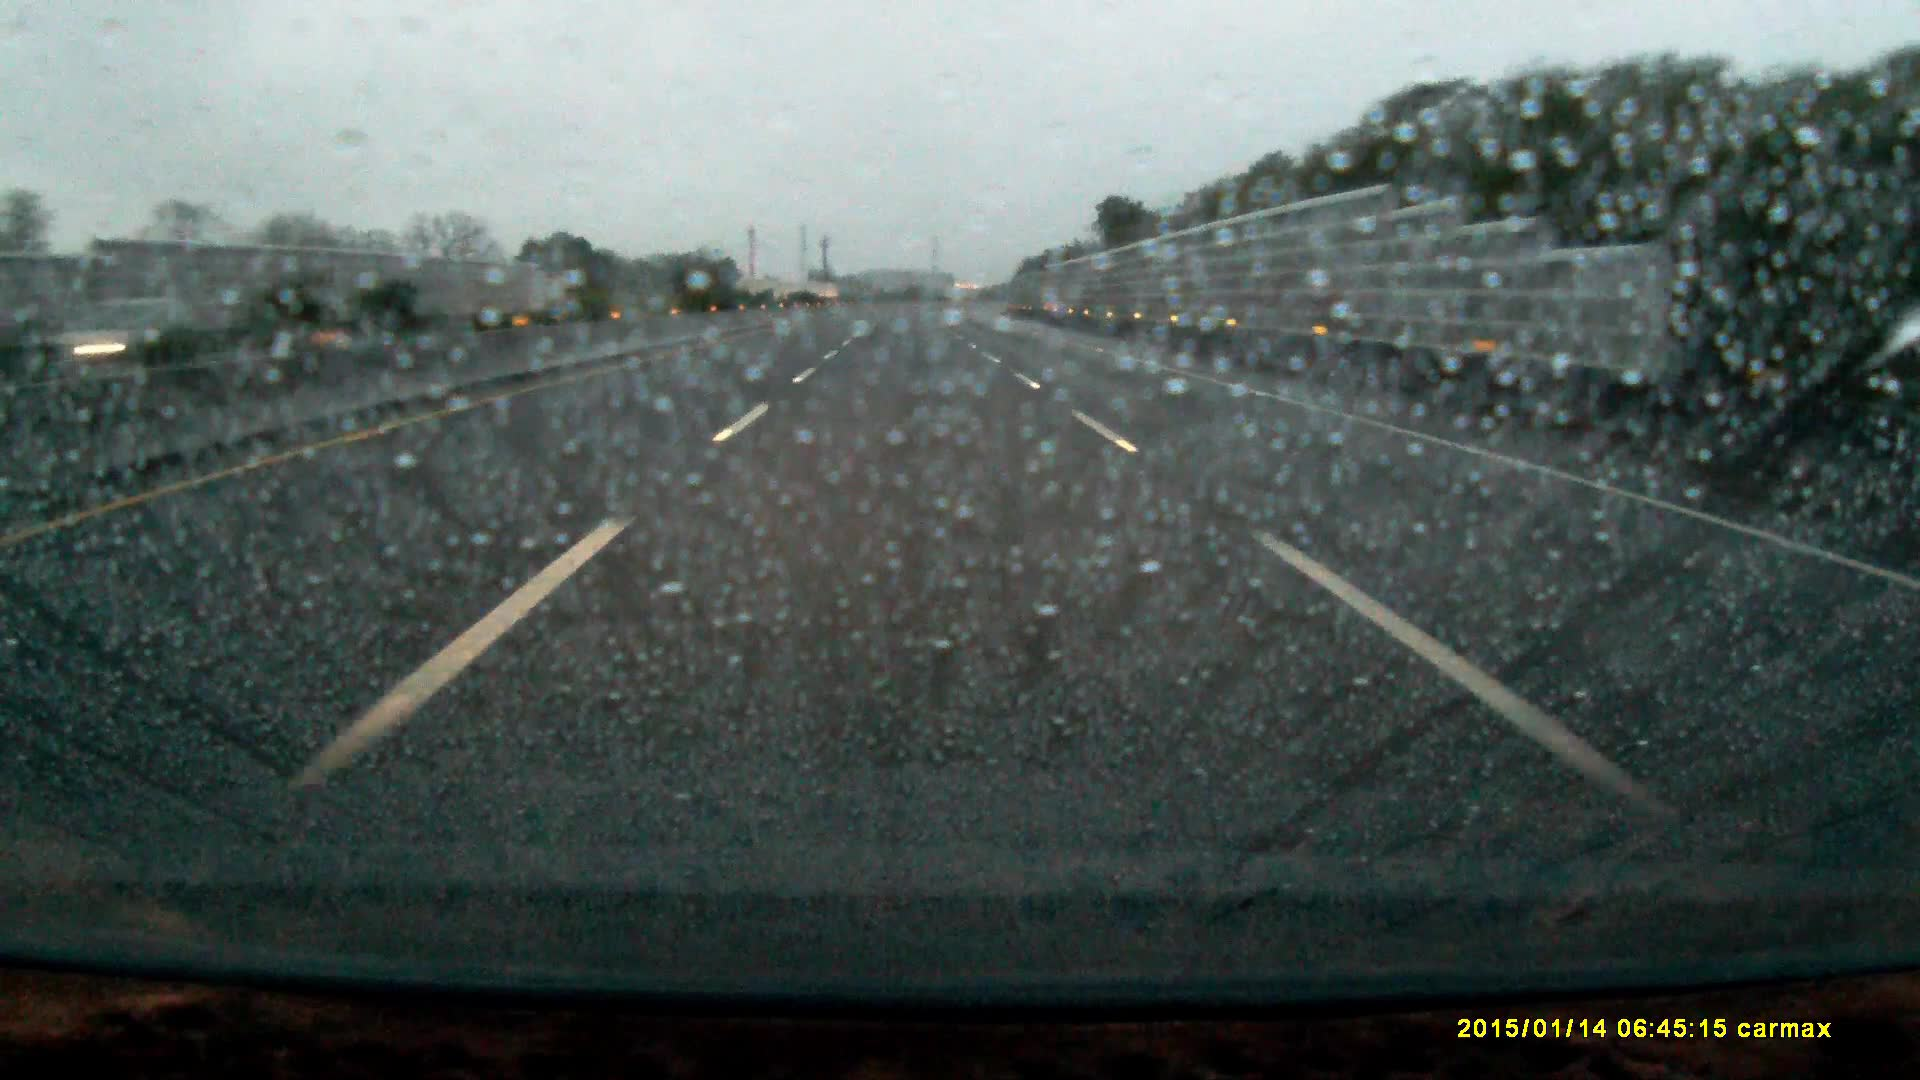vehicle: (73, 297, 190, 363)
